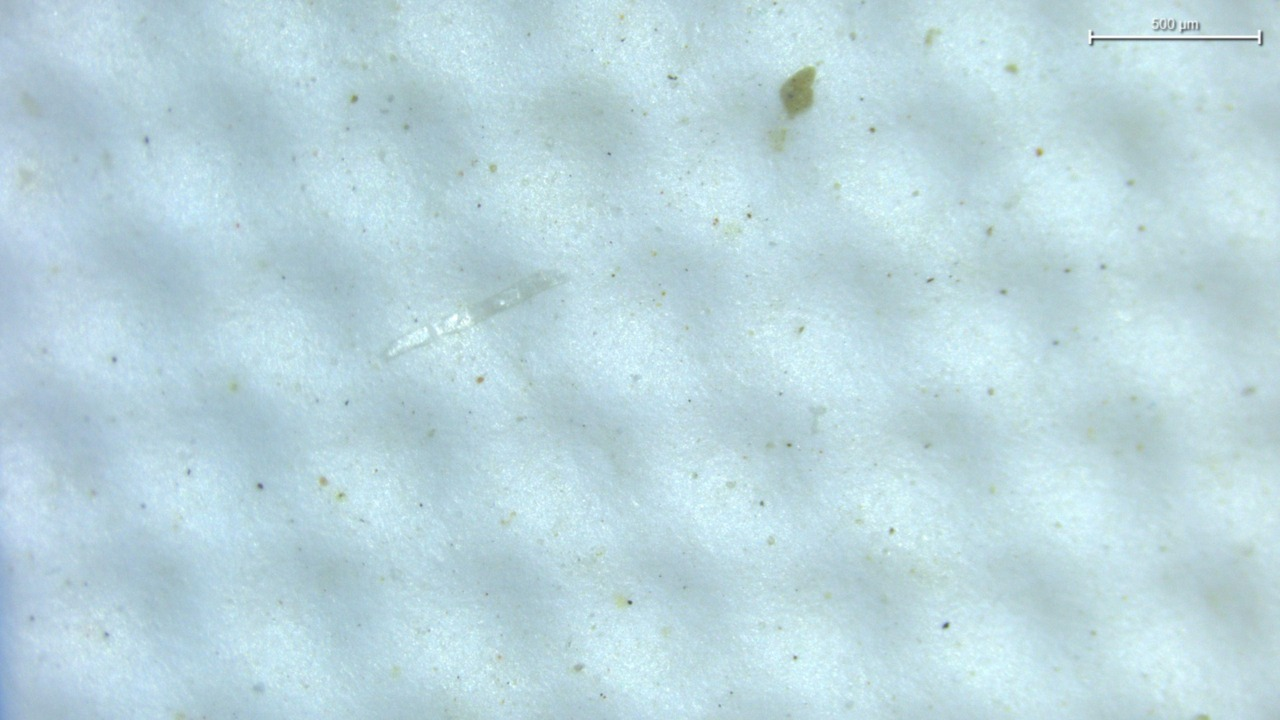microplastic_fragment: (387, 272, 561, 356)
